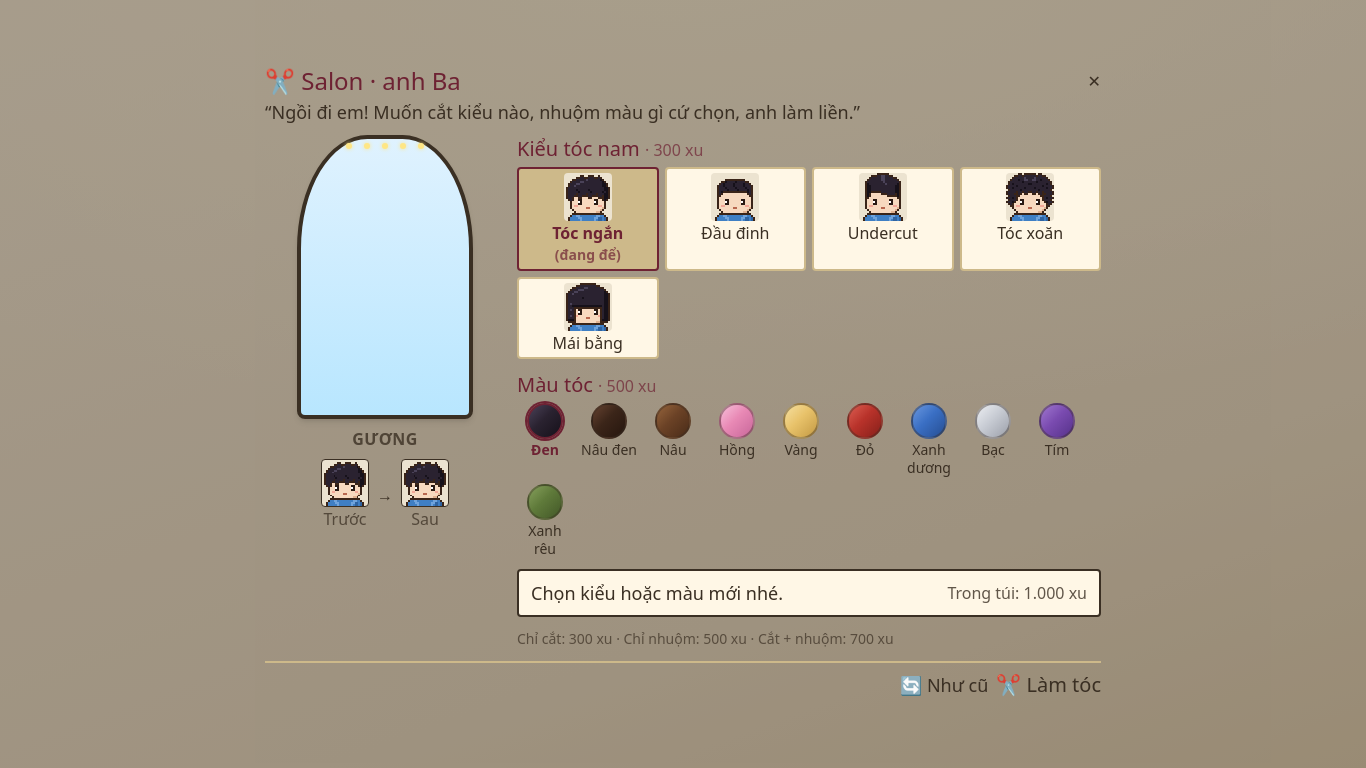
Test case: SalonModal › shows the server's rejection in Vietnamese
The image size is (1366, 768).
Click the button "Đỏ" at (865, 440), box 837,403 -> 893,476
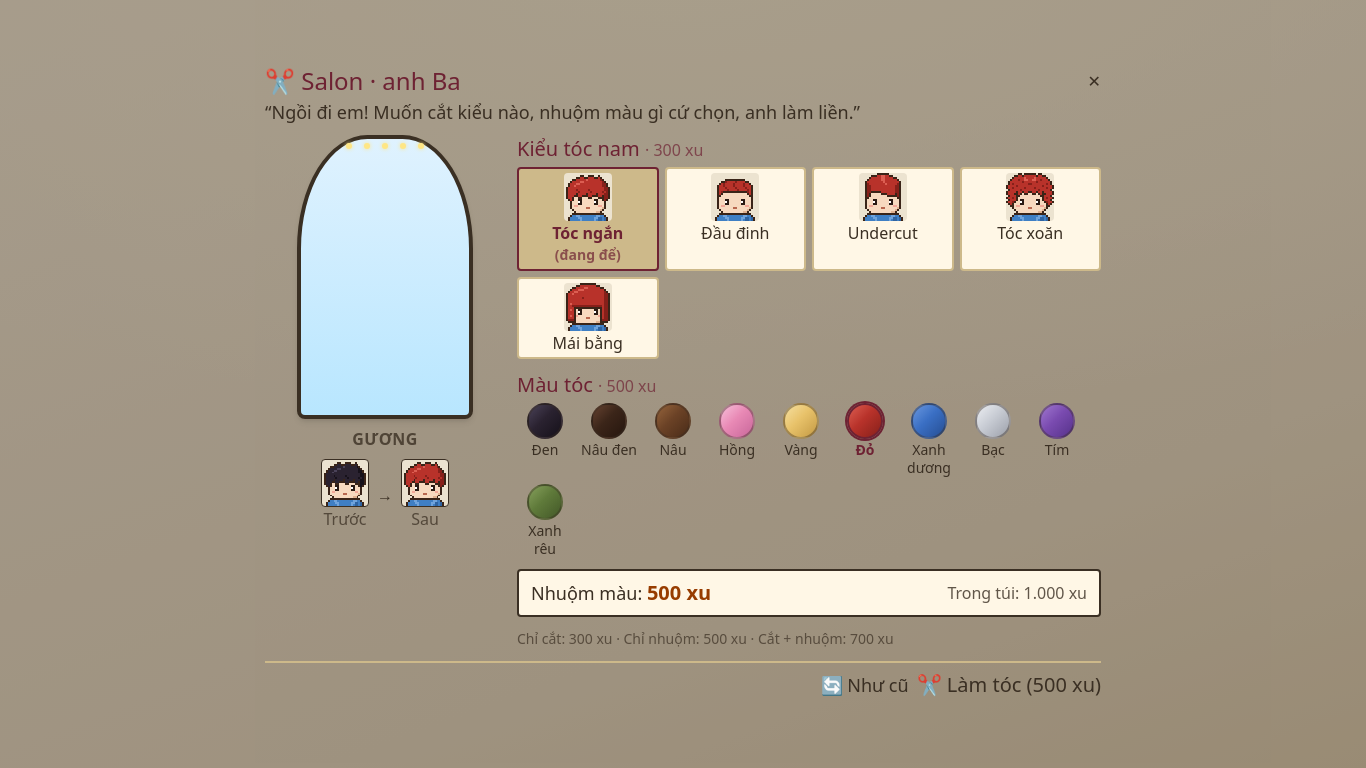
Click the button "✂️ Làm tóc (500 xu)" at (1009, 685), box 917,671 -> 1101,699
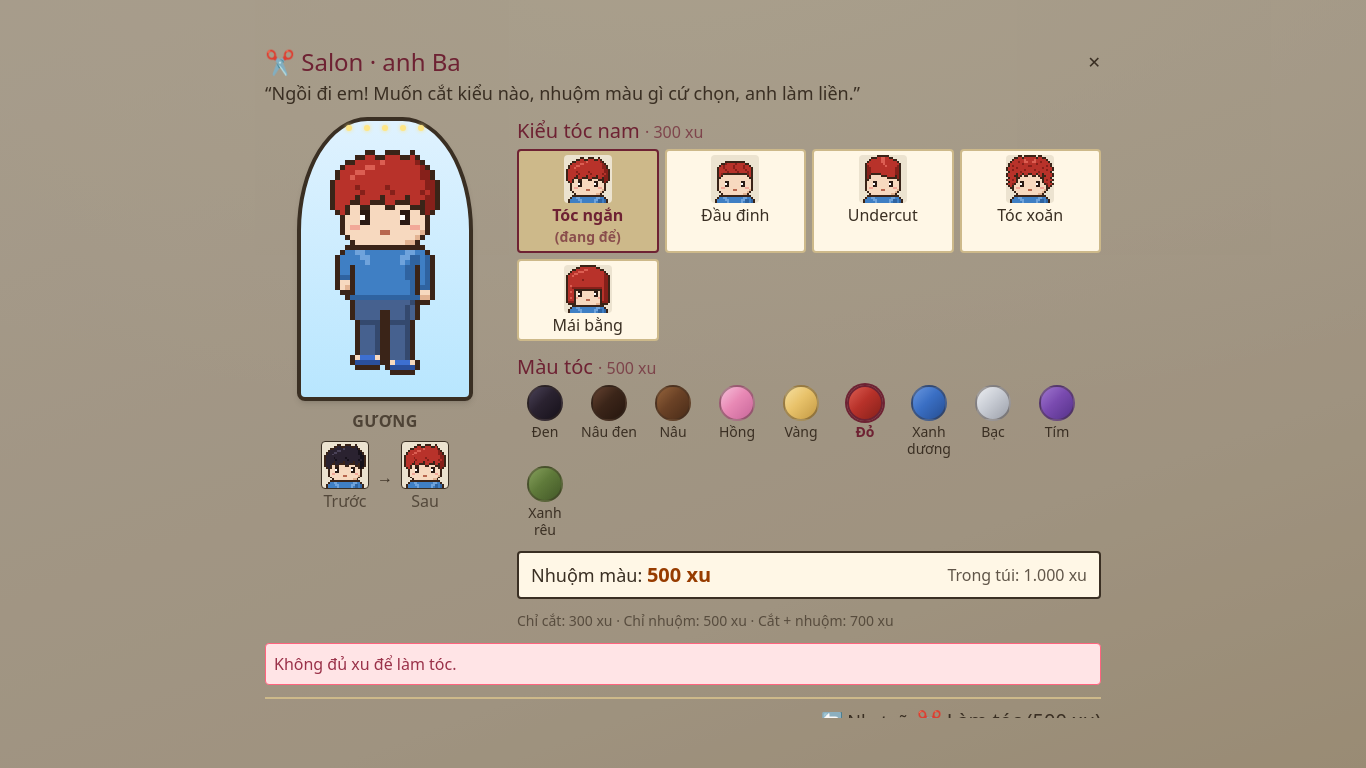
Expected: the message reads "Không đủ xu để làm tóc.", 274,653 -> 456,675
